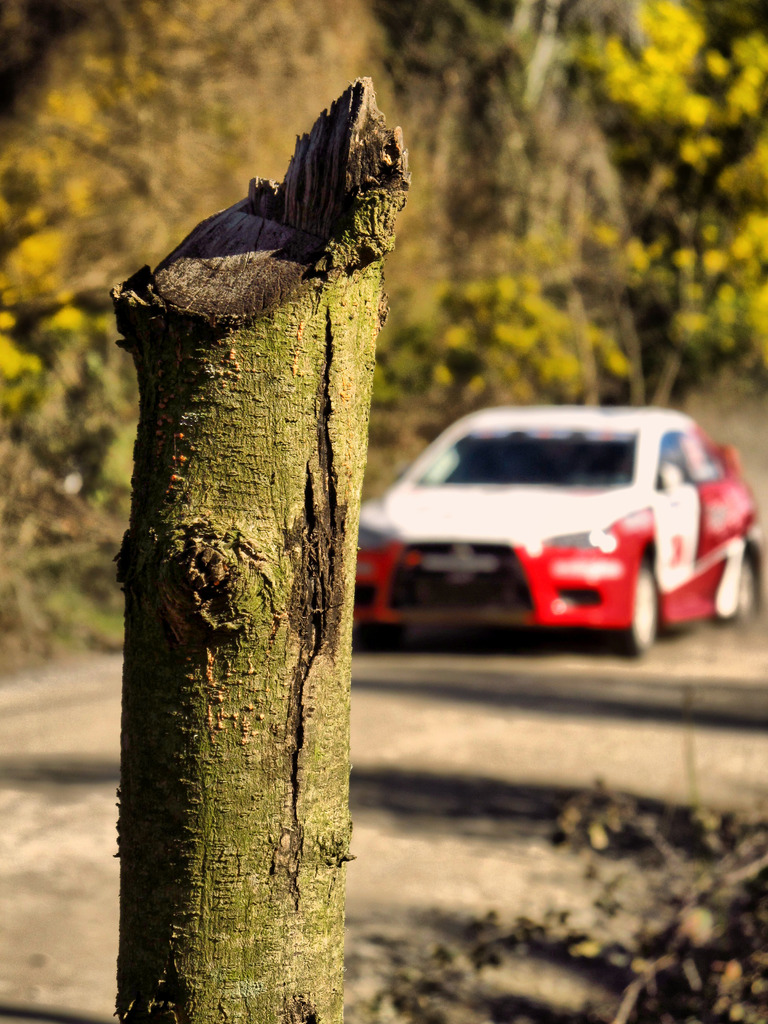Car: (360, 387, 761, 661)
